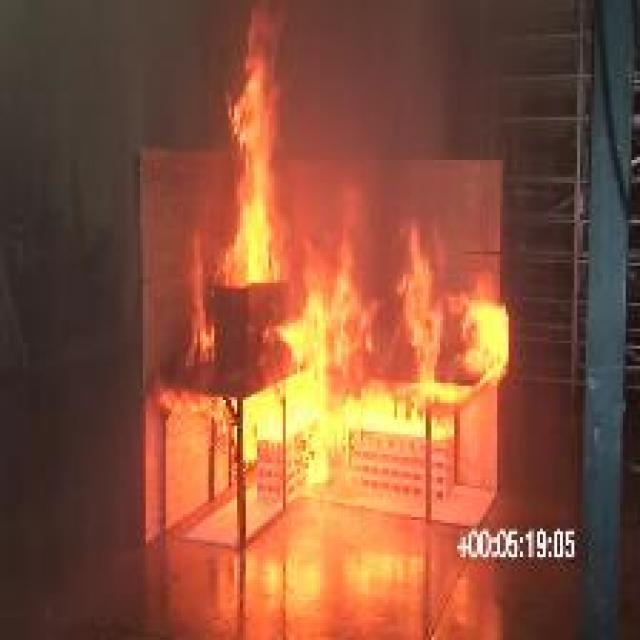Fire: (158, 191, 511, 486), (223, 0, 283, 280)
